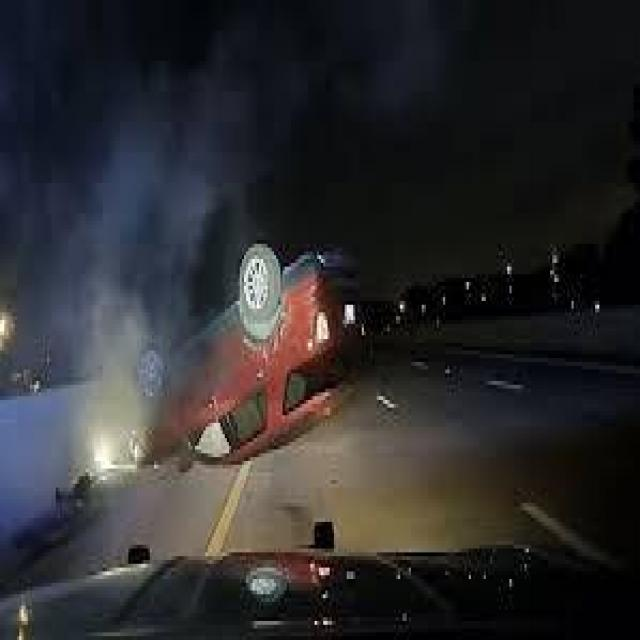accident: (121, 227, 376, 470)
